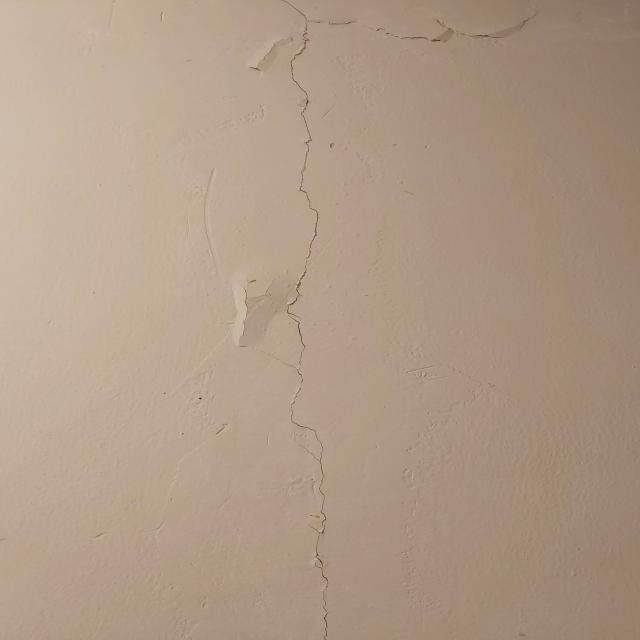Crack: (281, 6, 343, 634), (355, 17, 558, 43), (234, 278, 256, 347)
